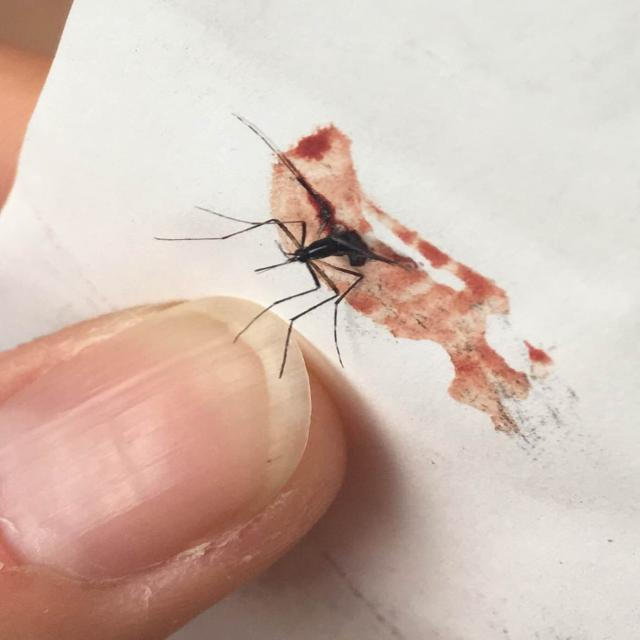albopictus: (157, 102, 422, 402)
